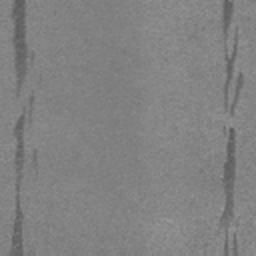Red iron sheet: (6, 95, 35, 256), (219, 127, 239, 255), (10, 0, 36, 97), (223, 0, 244, 116), (32, 148, 38, 170)
